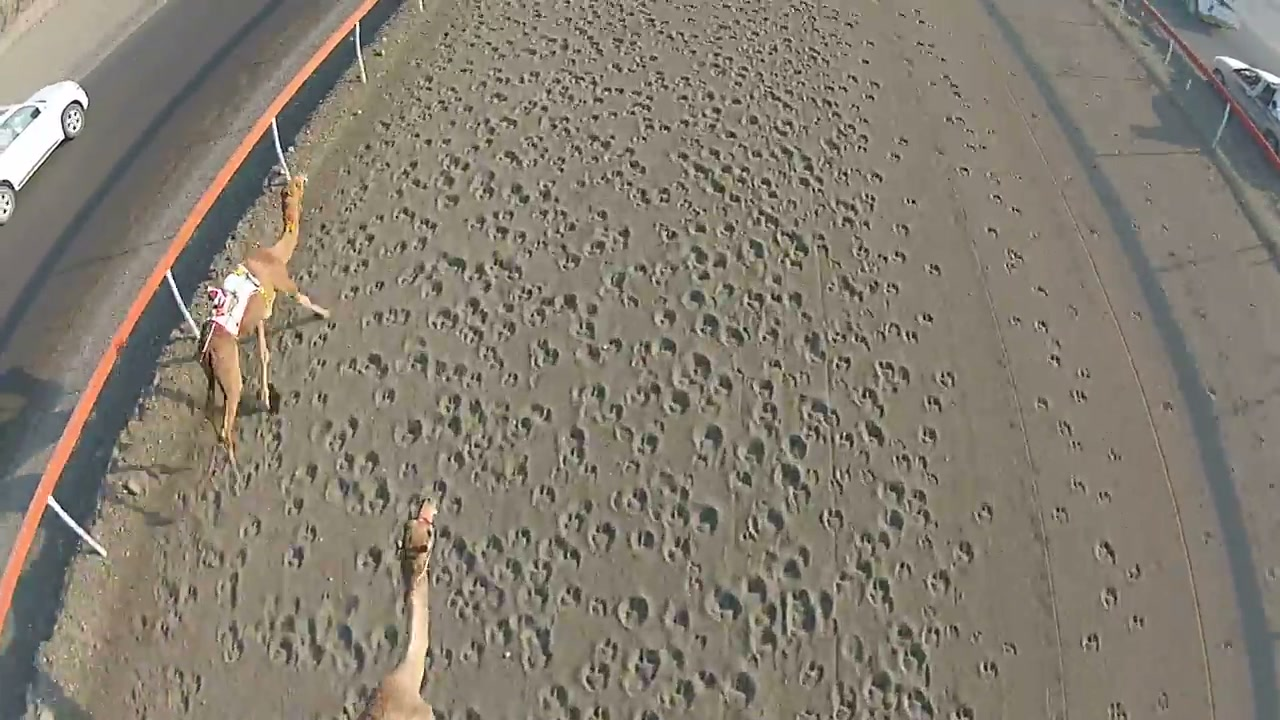animal_footprint: (137, 4, 982, 711), (897, 18, 1186, 704), (848, 12, 937, 280)
